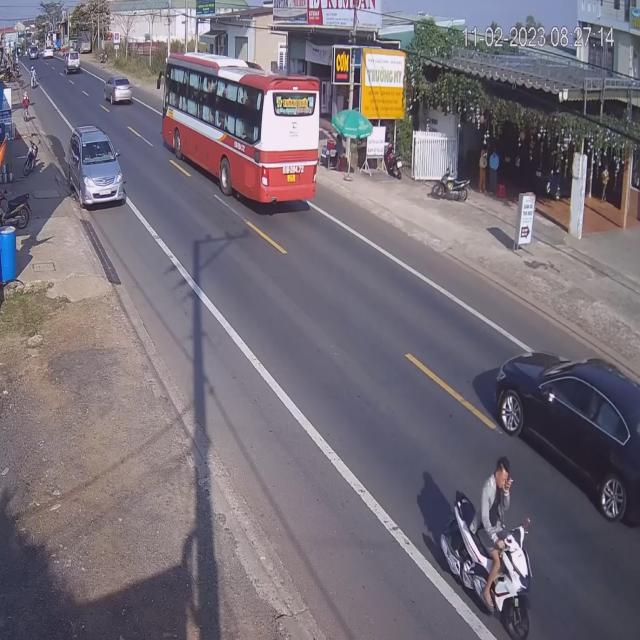bus: (166, 52, 324, 211)
car: (494, 356, 638, 532), (68, 126, 126, 210), (103, 76, 132, 107), (64, 51, 81, 76)
motorbike: (446, 465, 533, 634)
